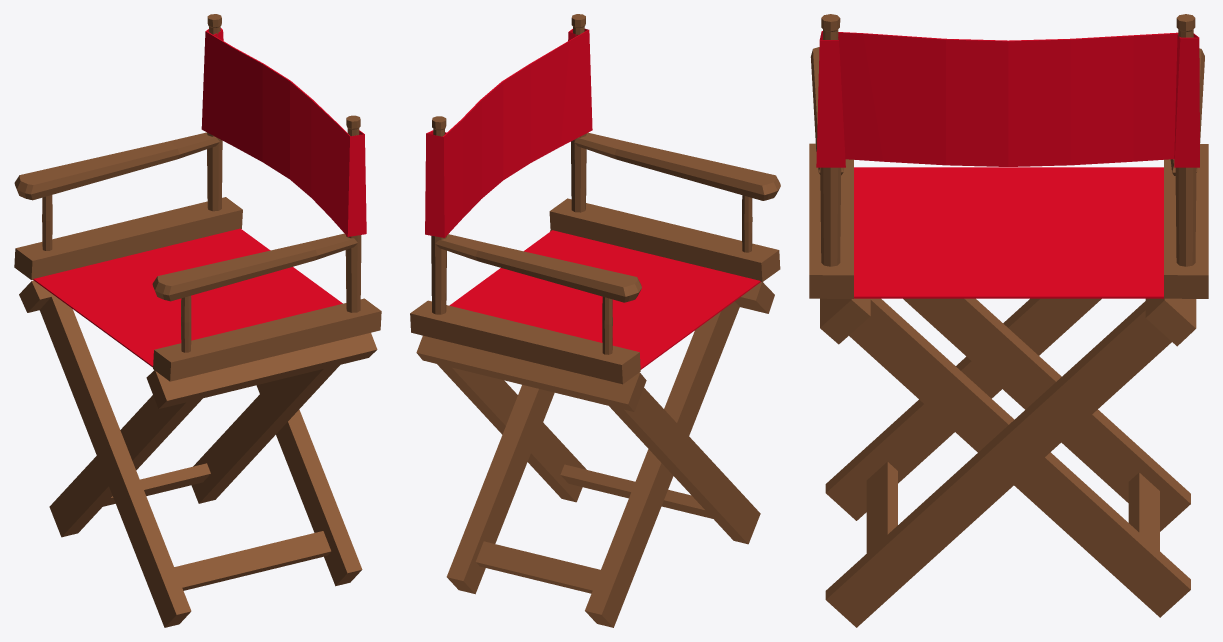
File: Cadeira2.glb
The picture shows the model from 3 angles, left to right: view 1: azimuth 30°, elevation 25°; view 2: azimuth 150°, elevation 25°; view 3: azimuth 270°, elevation 25°; orthographic projection. The views are drawn at different scales.
Parts seen in each view (by area): view 1: Cubo, Cubo.001, Cube, Cube.008, Cube.009, Cube.002, Cube.006, Cube.003, Cube.001, Cube.011, Cube.010, Cube.004 (+6 smaller); view 2: Cubo, Cubo.001, Cube.001, Cube.009, Cube.008, Cube.002, Cube, Cube.007, Cube.010, Cube.011, Cube.003, Cube.005 (+6 smaller); view 3: Cubo.001, Cubo, Cube.003, Cube.002, Cube.001, Cube, Cube.009, Cube.008, Cilindro, Cilindro.001, Cube.004, Cube.007 (+3 smaller).
Boxes of the visible parts, bbox=[...] form: Cubo: bbox=[33, 228, 342, 367]; Cubo.001: bbox=[201, 28, 366, 236]; Cube: bbox=[39, 296, 191, 627]; Cube.008: bbox=[153, 298, 381, 381]; Cube.009: bbox=[14, 197, 242, 279]; Cube.002: bbox=[191, 365, 339, 503]; Cube.006: bbox=[146, 333, 377, 408]; Cube.003: bbox=[256, 382, 362, 586]; Cube.001: bbox=[49, 395, 202, 537]; Cube.011: bbox=[14, 132, 219, 200]; Cube.010: bbox=[152, 233, 357, 301]; Cube.004: bbox=[174, 531, 331, 590]; Cubo: bbox=[449, 230, 760, 369]; Cubo.001: bbox=[425, 28, 592, 237]; Cube.001: bbox=[585, 301, 739, 627]; Cube.009: bbox=[410, 300, 640, 384]; Cube.008: bbox=[549, 198, 780, 282]; Cube.002: bbox=[446, 384, 554, 594]; Cube: bbox=[609, 388, 760, 544]; Cube.007: bbox=[416, 335, 646, 411]; Cube.010: bbox=[574, 132, 780, 200]; Cube.011: bbox=[435, 234, 641, 302]; Cube.003: bbox=[437, 364, 586, 502]; Cube.005: bbox=[476, 541, 600, 593]; Cubo.001: bbox=[816, 31, 1199, 167]; Cubo: bbox=[854, 167, 1163, 298]; Cube.003: bbox=[825, 301, 1171, 627]; Cube.002: bbox=[849, 298, 1190, 617]; Cube.001: bbox=[903, 298, 1190, 531]; Cube: bbox=[825, 298, 1101, 520]; Cube.009: bbox=[1164, 144, 1208, 298]; Cube.008: bbox=[809, 143, 853, 298]; Cilindro: bbox=[820, 14, 841, 266]; Cilindro.001: bbox=[1175, 14, 1196, 266]; Cube.004: bbox=[866, 462, 897, 553]; Cube.007: bbox=[1145, 298, 1196, 346].
Size of the model in its own units: 2.54 by 5.27 by 3.15.
